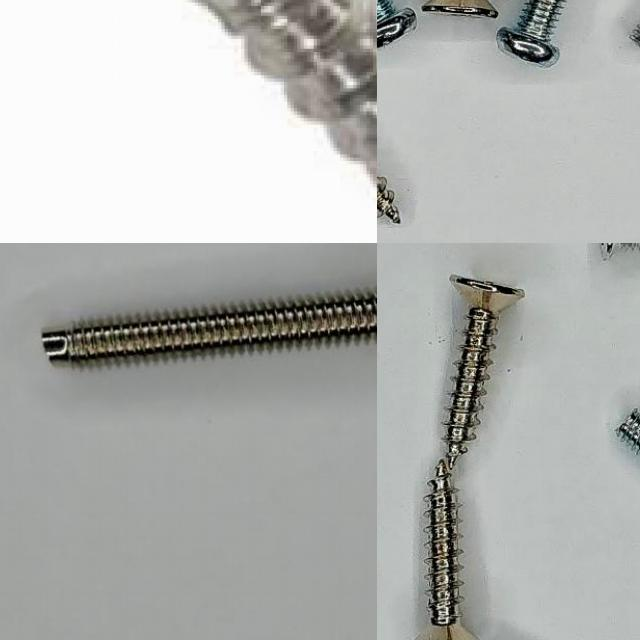Screw: (41, 288, 377, 360), (444, 274, 524, 468), (414, 459, 475, 640)
